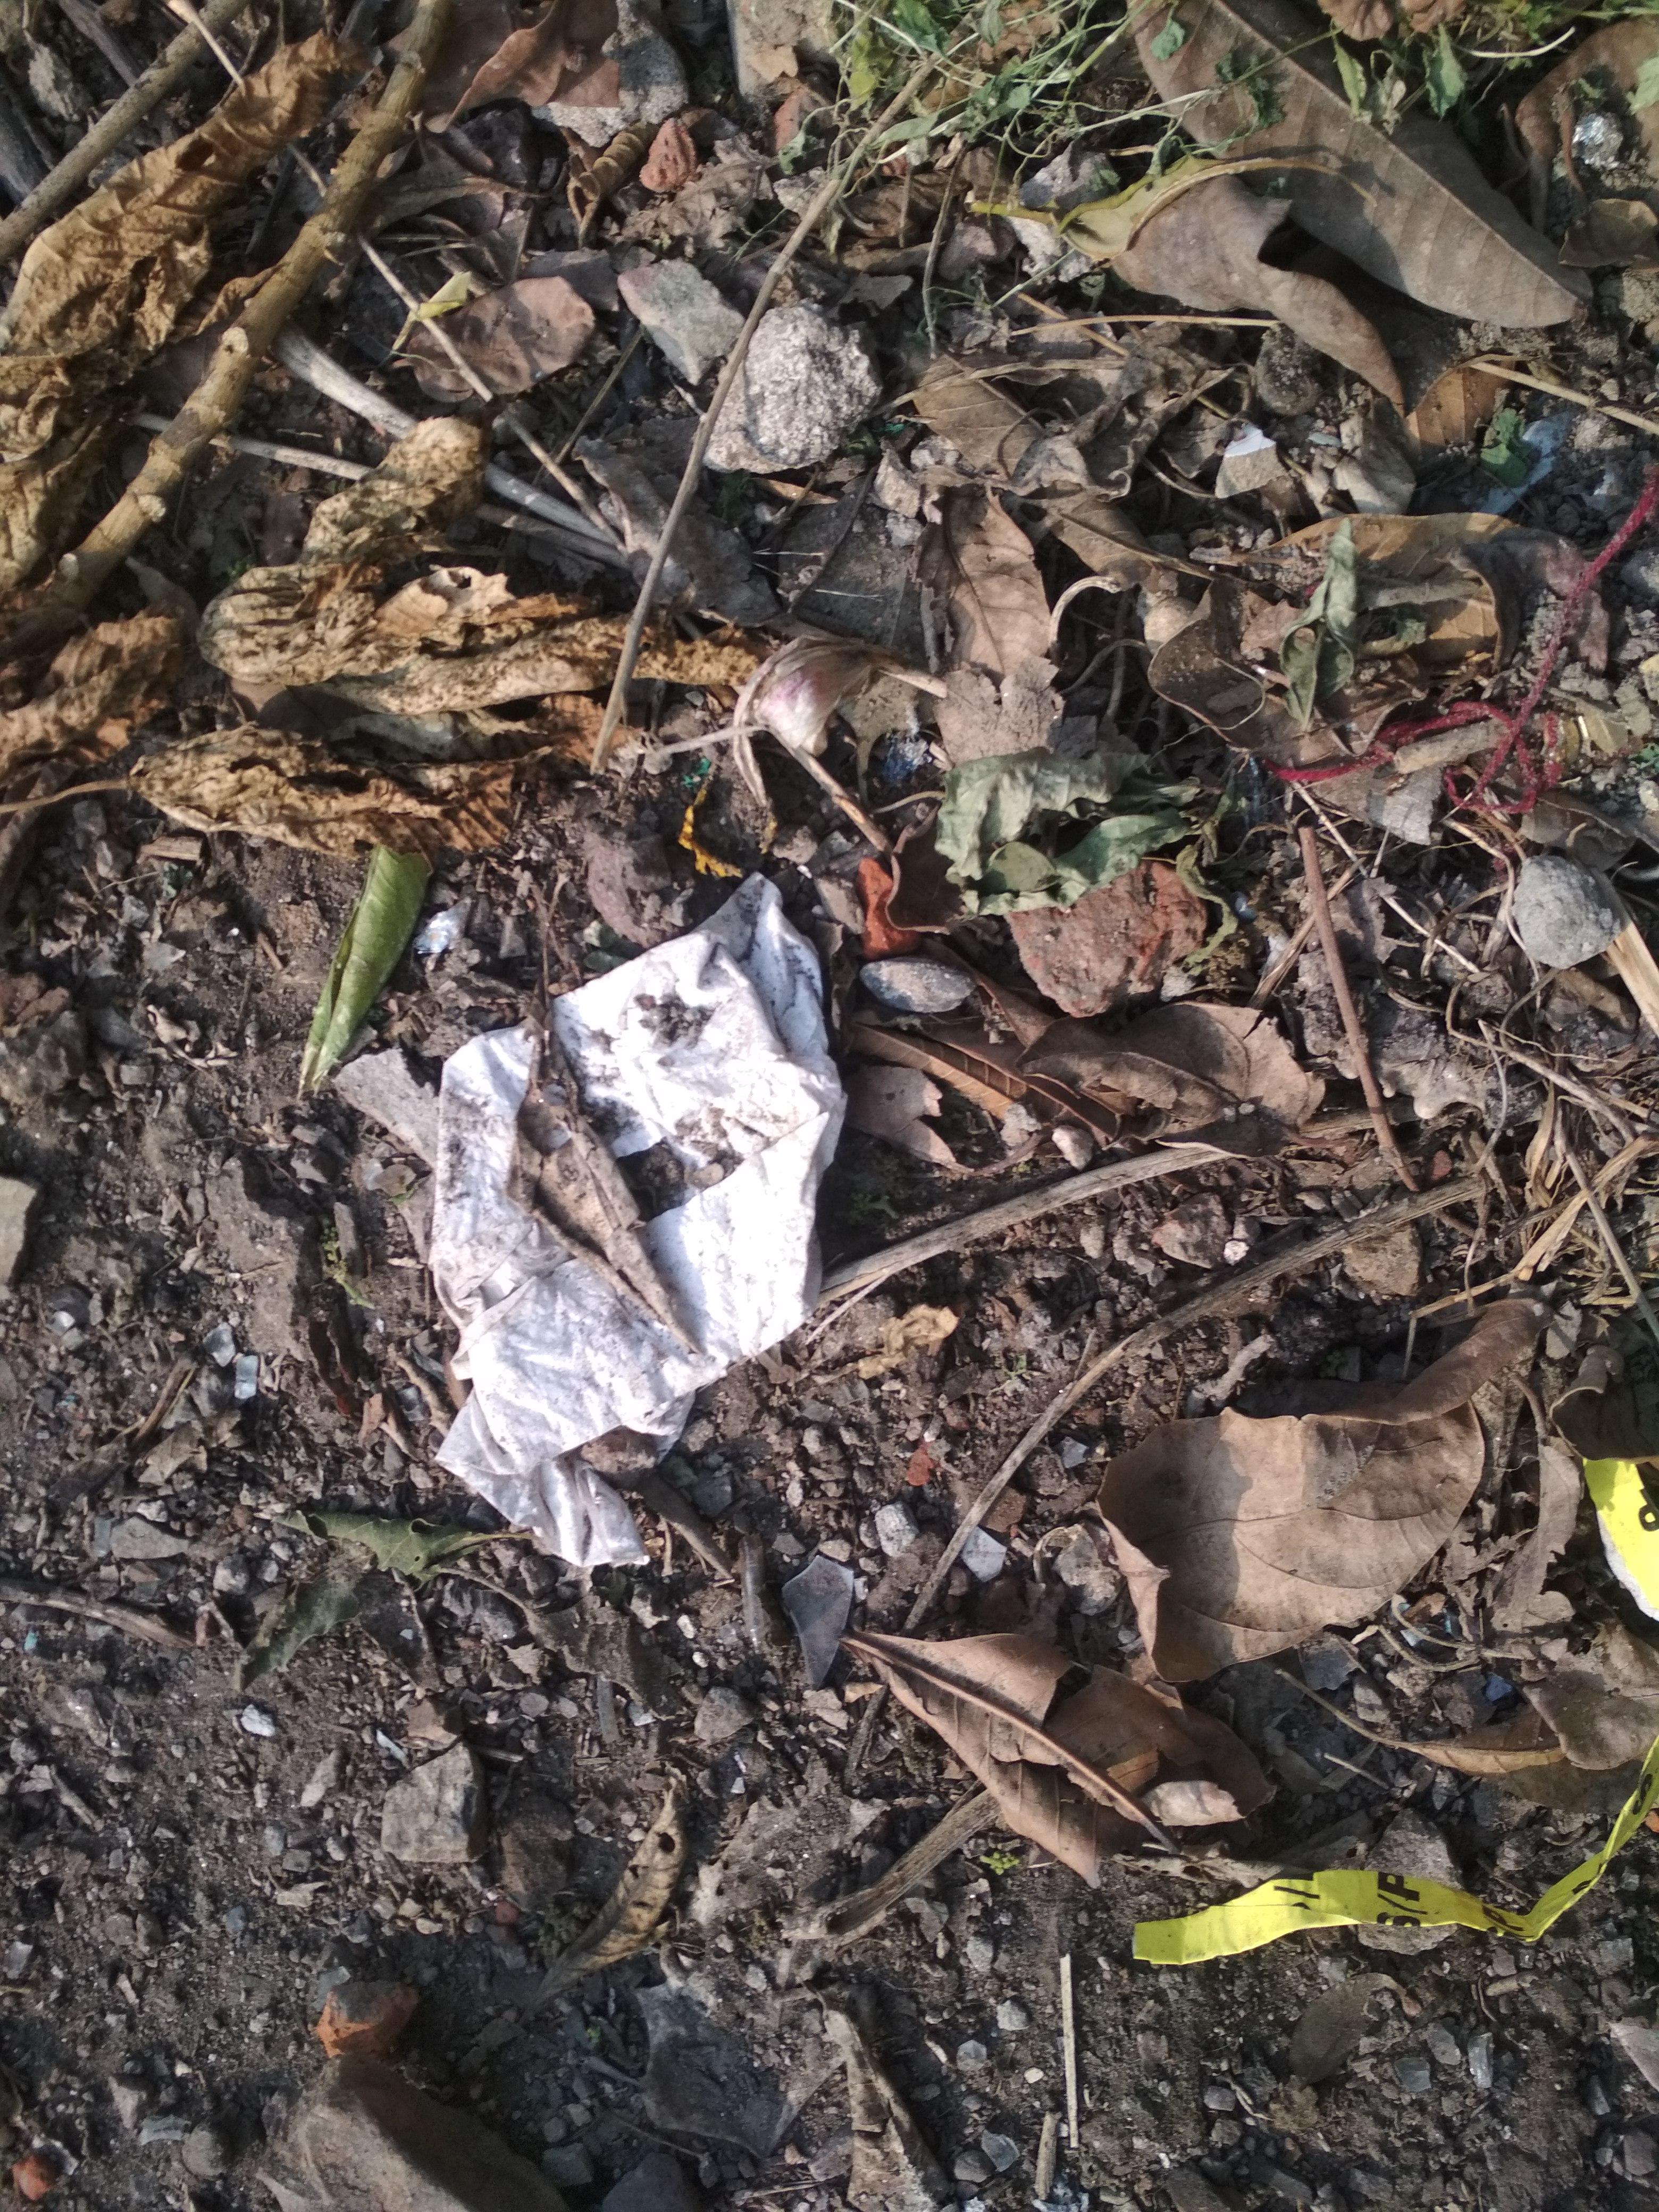organic: (331, 799, 924, 1550)
